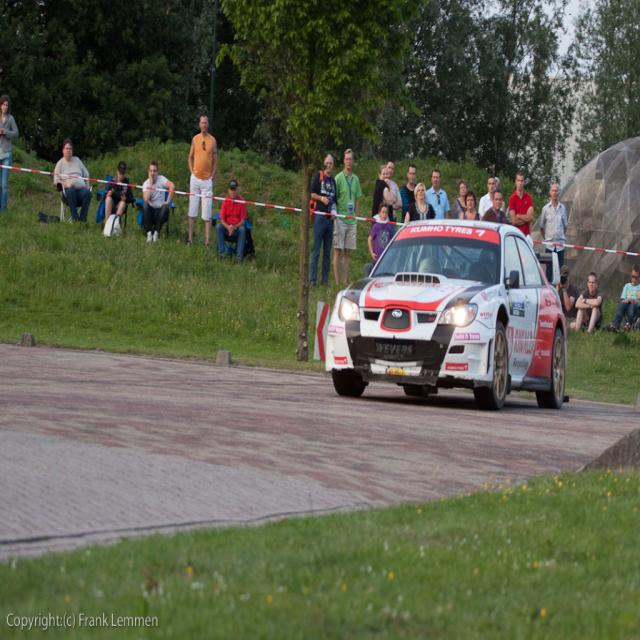car: (327, 210, 574, 406)
